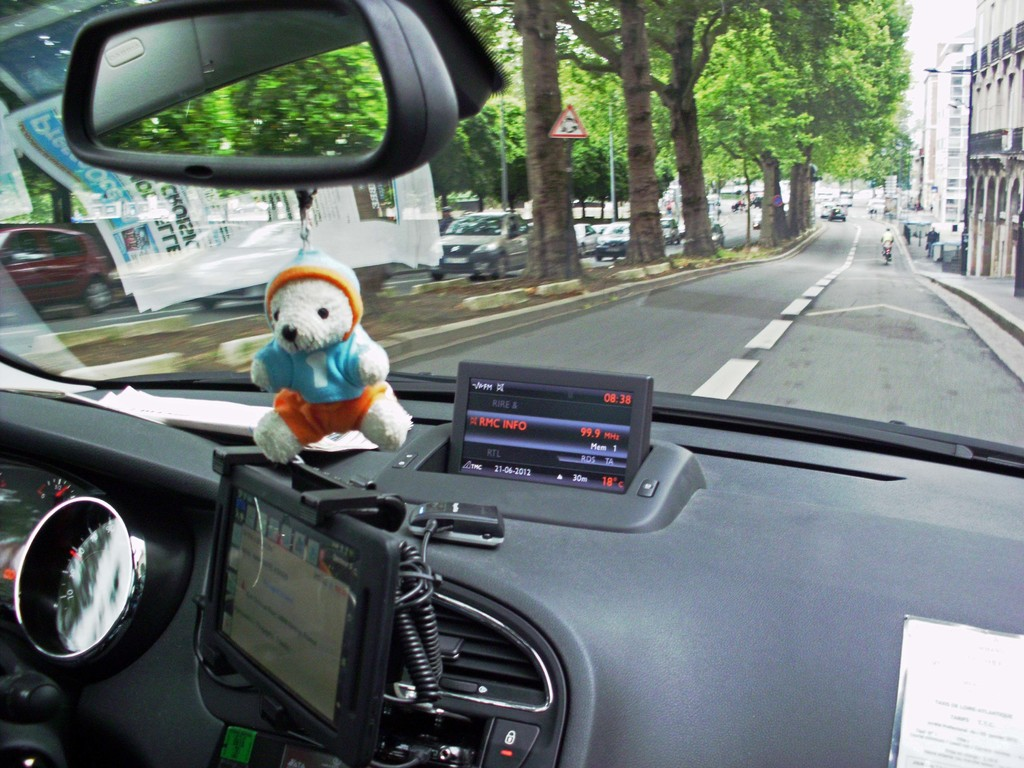Car: (0, 0, 1023, 764), (0, 226, 118, 307), (435, 216, 535, 270), (598, 224, 627, 262), (572, 220, 595, 251), (666, 216, 681, 250)
